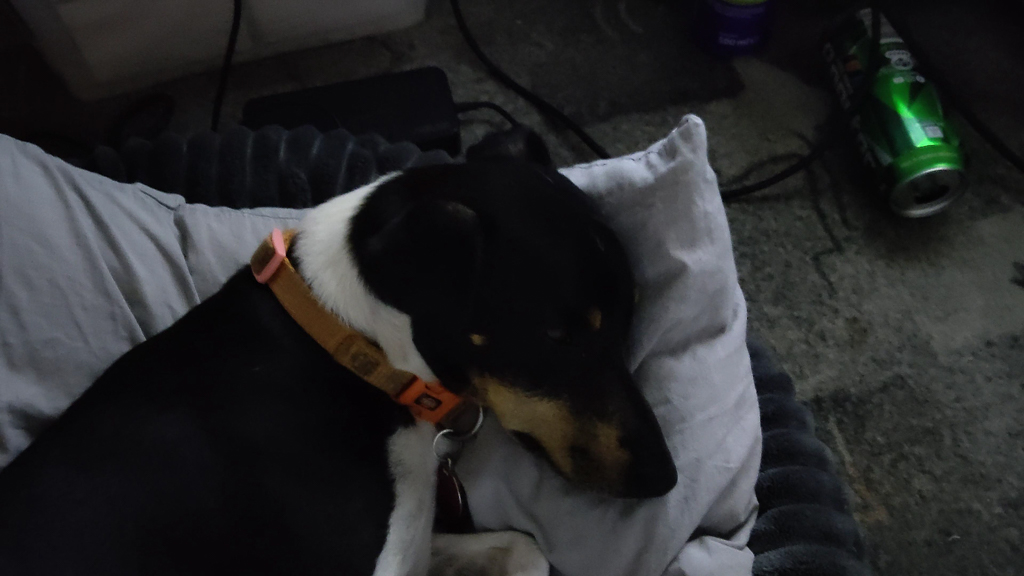Dog: (0, 116, 692, 576)
